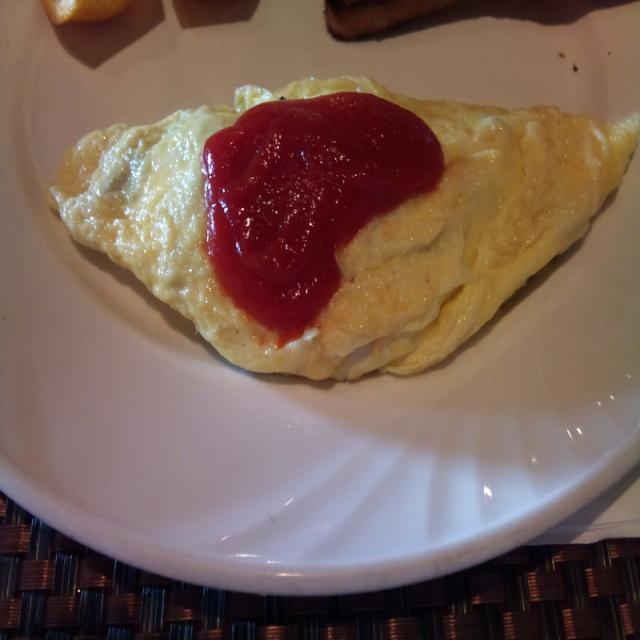Omelet: (69, 76, 624, 337)
